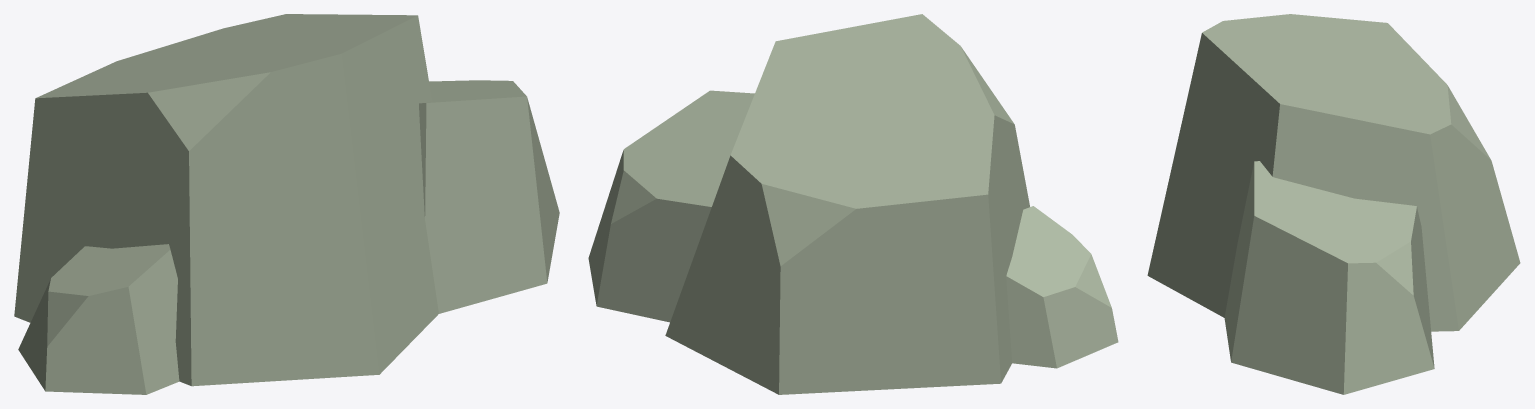
The model's file is rock.glb.
The picture shows the model from 3 angles, left to right: view 1: azimuth 30°, elevation 25°; view 2: azimuth 150°, elevation 25°; view 3: azimuth 270°, elevation 25°; orthographic projection. The views are drawn at different scales.
Parts seen in each view (by area): view 1: rock; view 2: rock; view 3: rock.
Boxes of the visible parts, x1,y1,x2,y2 form: rock: (14, 14, 559, 394); rock: (588, 14, 1118, 394); rock: (1147, 14, 1520, 394).
Bounding box in the file's own units: 1 × 0.5 × 0.7.
